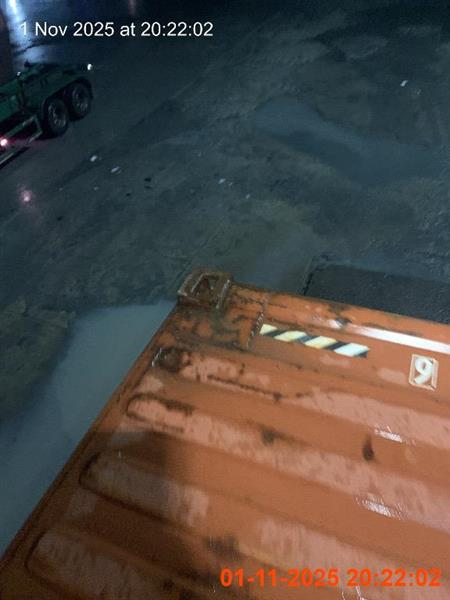dent: (0, 268, 448, 599), (0, 5, 96, 165)
